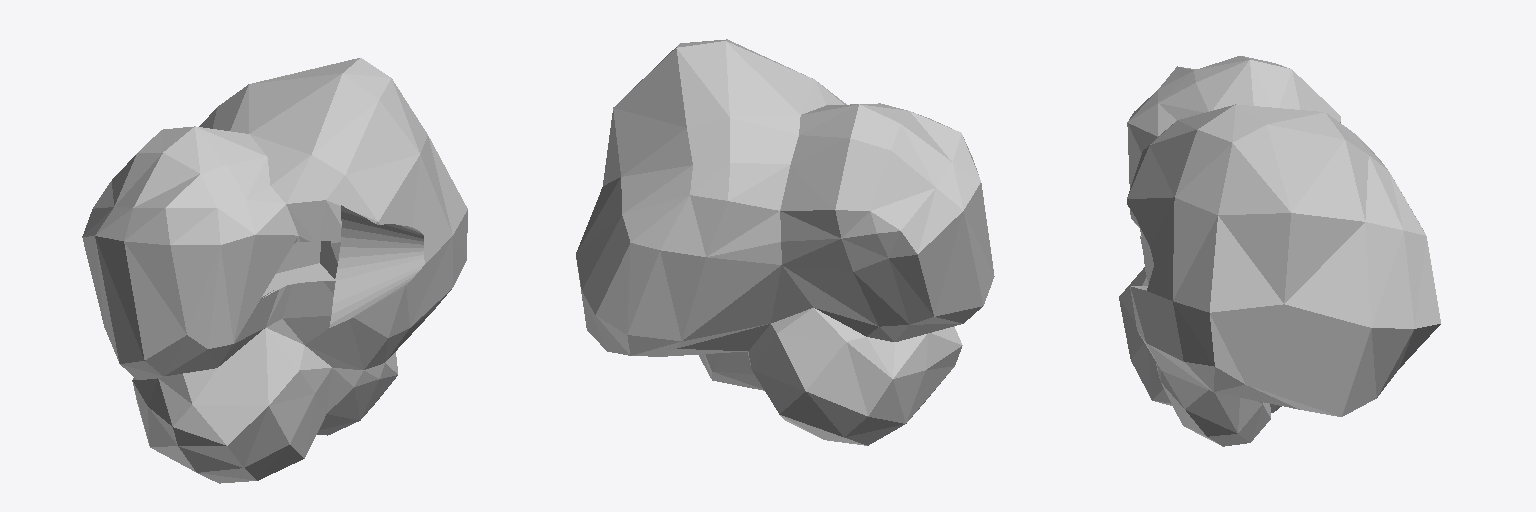
File: SpeedRock.obj
3 renders of one model, left to right at view 1: azimuth 30°, elevation 25°; view 2: azimuth 150°, elevation 25°; view 3: azimuth 270°, elevation 25°, orthographic.
Parts seen in each view (by area): view 1: polySurface290.001; view 2: polySurface290.001; view 3: polySurface290.001.
Boxes of the visible parts, x1=… form: polySurface290.001: x1=82, y1=58, x2=467, y2=483; polySurface290.001: x1=576, y1=39, x2=994, y2=445; polySurface290.001: x1=1119, y1=56, x2=1440, y2=446.
Size of the model in its own units: 5.37 by 5.27 by 4.21.